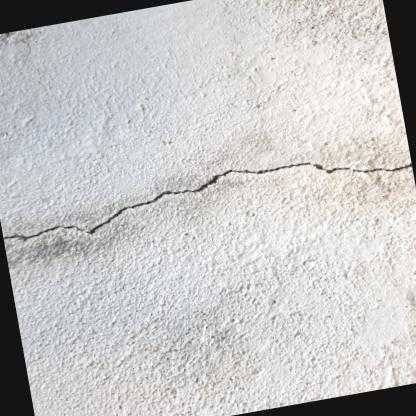crack: (2, 161, 311, 242), (310, 160, 412, 175)
